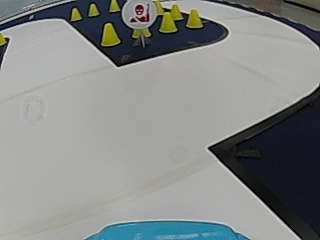evil: (121, 0, 156, 29)
